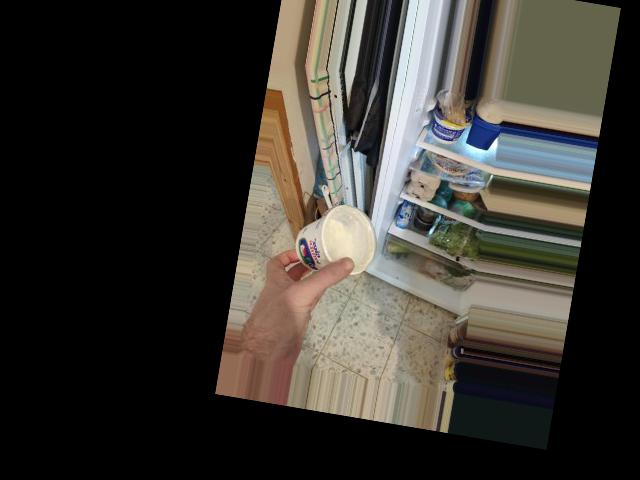cotage: (287, 196, 382, 286)
